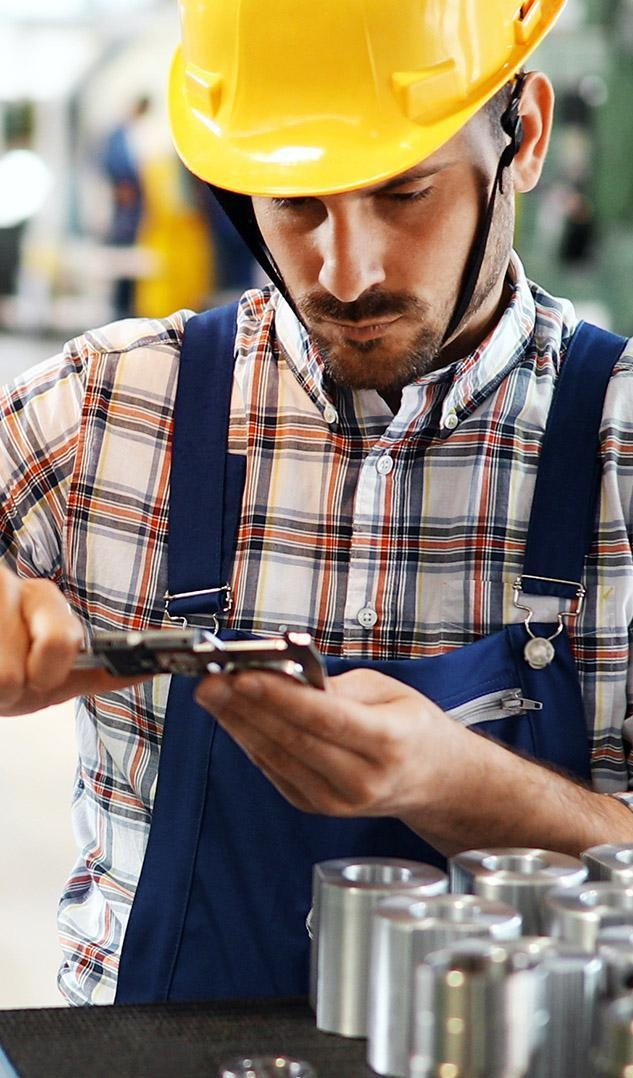yellow: (160, 2, 555, 391)
